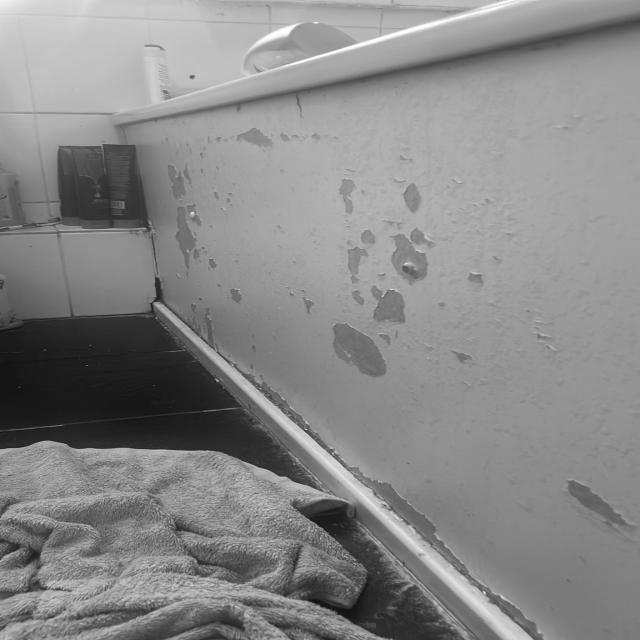peeling paint: (333, 165, 640, 640), (154, 128, 326, 420)
